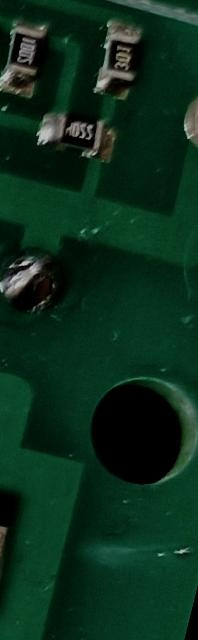chip-resistor: (84, 16, 149, 105), (30, 105, 121, 167), (0, 13, 54, 103)
